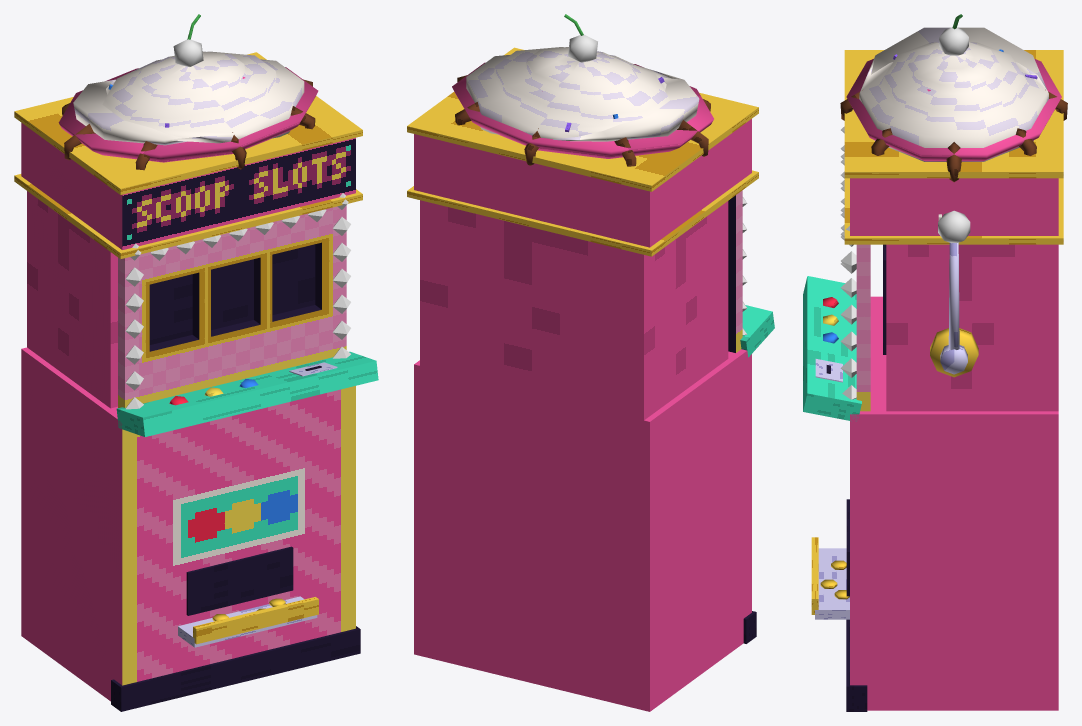
File: Slot Machine.fbx
3 renders of one model, left to right at view 1: azimuth 30°, elevation 25°; view 2: azimuth 150°, elevation 25°; view 3: azimuth 270°, elevation 25°, orthographic. The views are drawn at different scales.
Visible parts, largest first — view 1: Slot Machine base, Slot Machine reel panel, Slot Machine marquee, Slot Machine whipped cream, Slot Machine reel body, Slot Machine marquee trim 1.705, Slot Machine reel backing, Slot Machine ledge, Slot Machine kick, Slot Machine chute, Slot Machine dish, Slot Machine marquee trim 1.495 (+3 smaller); view 2: Slot Machine base, Slot Machine reel body, Slot Machine marquee, Slot Machine whipped cream, Slot Machine marquee trim 1.705, Slot Machine dish, Slot Machine marquee trim 1.495, Slot Machine reel panel, Slot Machine ledge, Slot Machine cherry; view 3: Slot Machine base, Slot Machine reel body, Slot Machine whipped cream, Slot Machine marquee, Slot Machine marquee trim 1.705, Slot Machine ledge, Slot Machine dish, Slot Machine marquee trim 1.495, Slot Machine reel panel, Slot Machine tray, Slot Machine lever arm, Slot Machine lever housing (+7 smaller).
Part boxes in pixels (x1,y1,x2,y2): Slot Machine base: (21, 347, 355, 701); Slot Machine reel panel: (118, 205, 346, 407); Slot Machine marquee: (21, 123, 355, 249); Slot Machine whipped cream: (73, 51, 304, 145); Slot Machine reel body: (27, 191, 117, 408); Slot Machine marquee trim 1.705: (14, 52, 362, 194); Slot Machine reel backing: (149, 244, 315, 344); Slot Machine ledge: (116, 351, 378, 436); Slot Machine kick: (111, 626, 360, 711); Slot Machine chute: (186, 546, 293, 615); Slot Machine dish: (58, 67, 318, 162); Slot Machine marquee trim 1.495: (14, 174, 362, 259); Slot Machine base: (414, 349, 751, 711); Slot Machine reel body: (420, 200, 728, 420); Slot Machine marquee: (414, 119, 751, 247); Slot Machine whipped cream: (466, 47, 699, 141); Slot Machine marquee trim 1.705: (407, 47, 758, 191); Slot Machine dish: (452, 62, 713, 158); Slot Machine marquee trim 1.495: (407, 170, 758, 256); Slot Machine reel panel: (728, 190, 742, 352); Slot Machine ledge: (740, 305, 774, 357); Slot Machine cherry: (568, 34, 597, 62); Slot Machine base: (850, 296, 1058, 710); Slot Machine reel body: (886, 244, 1058, 411); Slot Machine whipped cream: (859, 27, 1048, 161); Slot Machine marquee: (850, 178, 1058, 235); Slot Machine marquee trim 1.705: (844, 50, 1063, 178); Slot Machine ledge: (803, 276, 861, 421); Slot Machine dish: (846, 59, 1061, 161); Slot Machine marquee trim 1.495: (844, 178, 1063, 244); Slot Machine reel panel: (856, 244, 870, 411); Slot Machine tray: (815, 548, 849, 619); Slot Machine lever arm: (948, 242, 959, 349); Slot Machine lever housing: (930, 328, 978, 377).
Bounding box in the file's own units: 0.9556 × 2.04 × 0.7615.
Materials: 24 (20 with a texture image).
